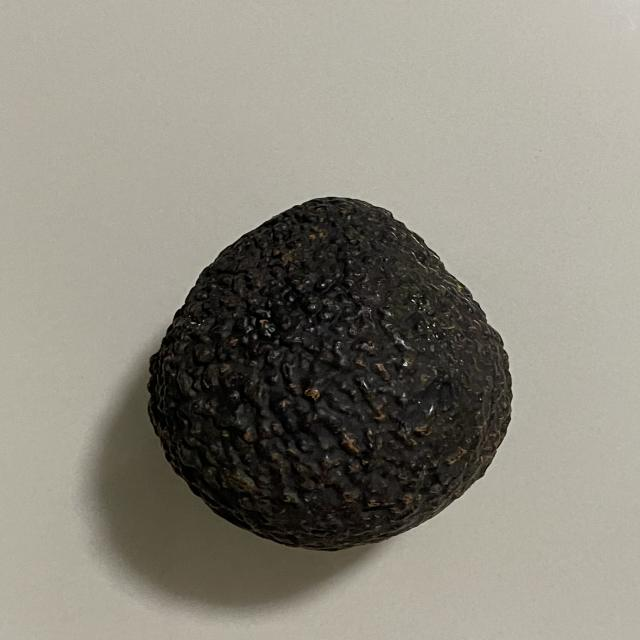Level1: (138, 182, 530, 558)
